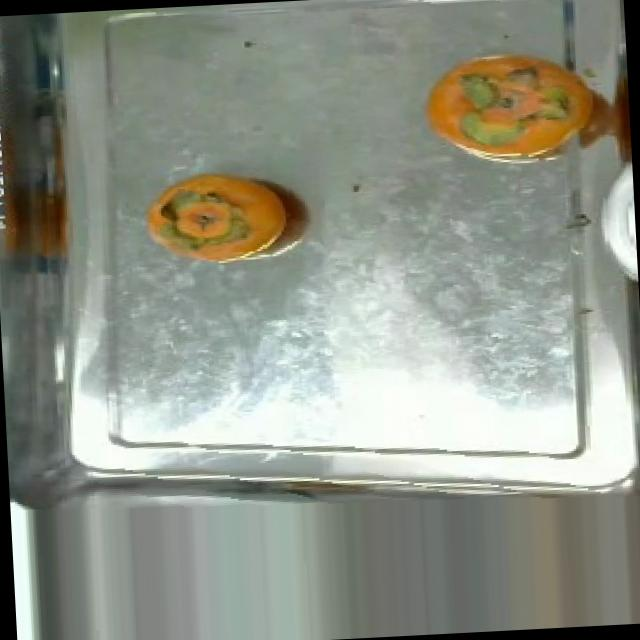Fruit: (407, 33, 605, 179), (133, 164, 294, 268)
